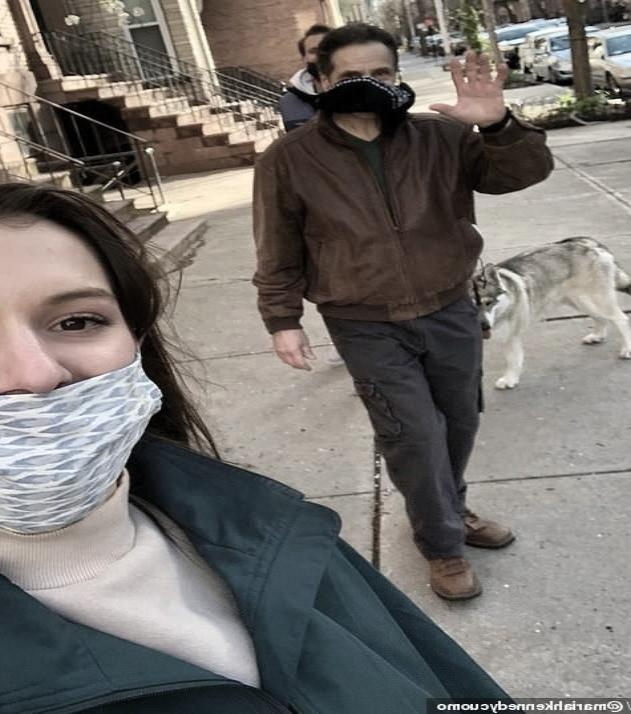mask_weared_incorrect: (1, 177, 166, 532)
